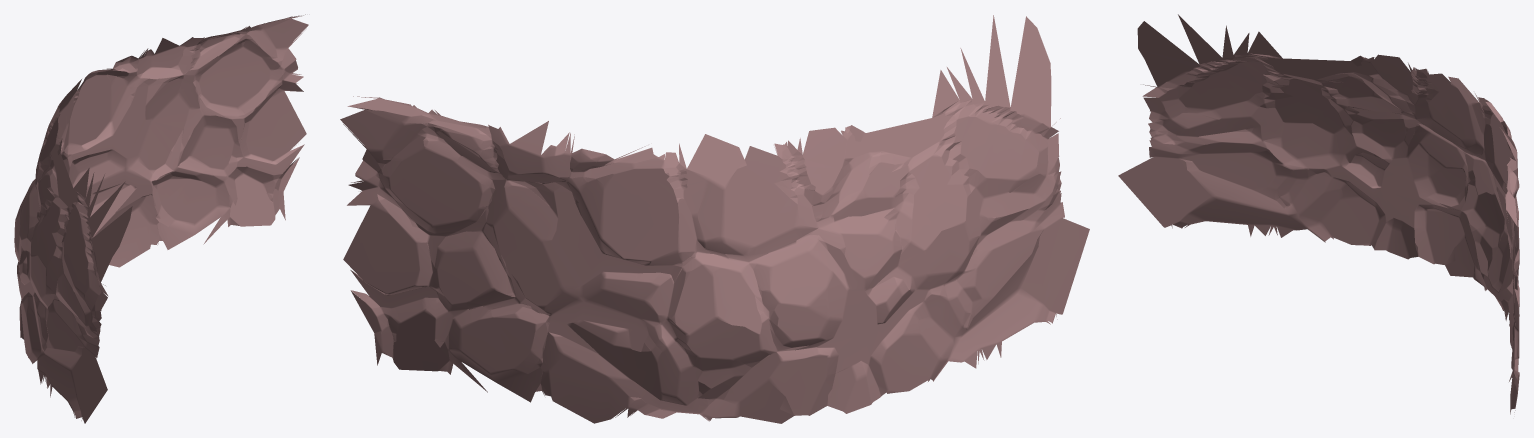
The model's file is plateau.fbx_Rock_Plateau_013LODs.fbx.
The picture shows the model from 3 angles, left to right: view 1: azimuth 30°, elevation 25°; view 2: azimuth 150°, elevation 25°; view 3: azimuth 270°, elevation 25°; orthographic projection. The views are drawn at different scales.
Visible parts, largest first — view 1: Rock Plateau.013_LOD0; view 2: Rock Plateau.013_LOD0; view 3: Rock Plateau.013_LOD0.
Boxes of the visible parts, x1,y1,x2,y2 form: Rock Plateau.013_LOD0: [14, 14, 308, 423]; Rock Plateau.013_LOD0: [340, 15, 1089, 423]; Rock Plateau.013_LOD0: [1118, 14, 1519, 414].
Size of what is drawn, in the model's own units: 5332 by 3096 by 4484.
